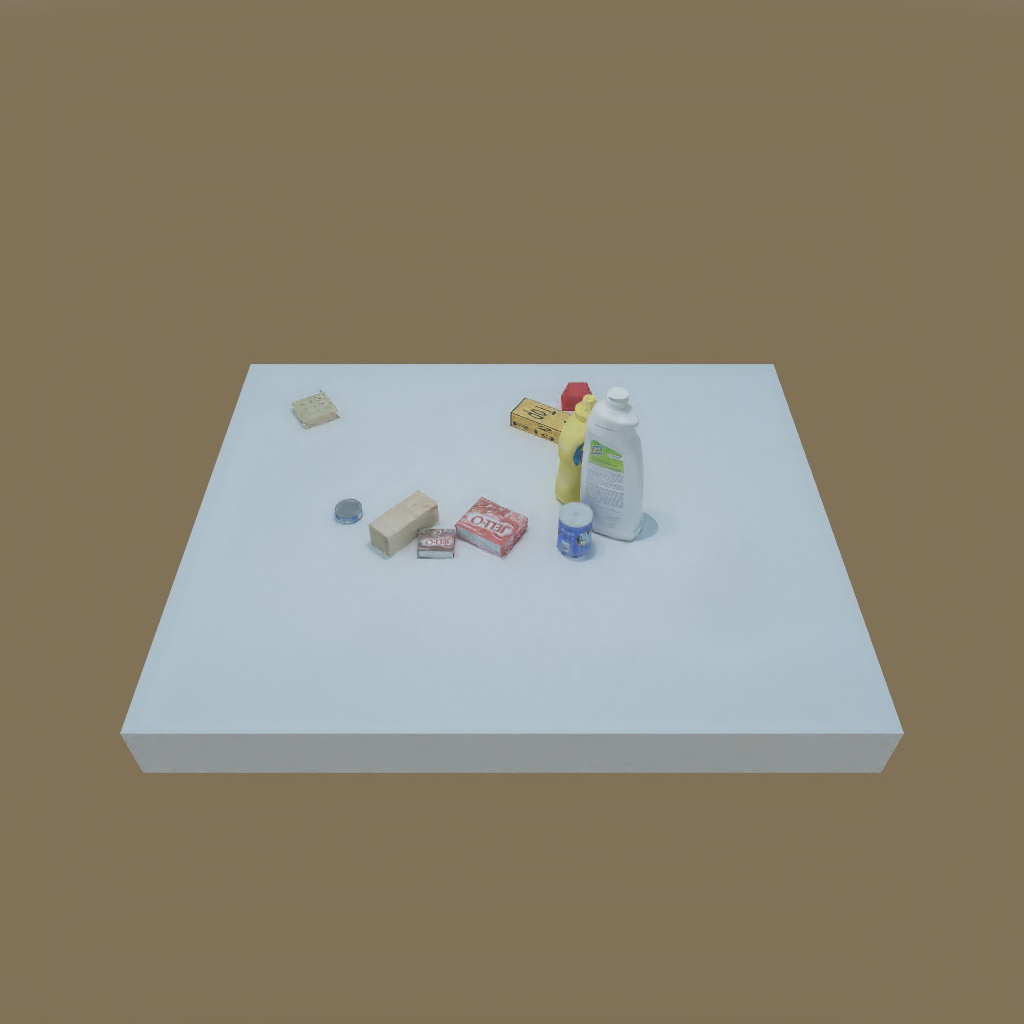gelatin_box: (453, 498, 527, 555)
jenga: (512, 396, 572, 442)
master_chef_can: (556, 503, 599, 563)
mustard_bottle: (555, 398, 599, 498)
nine_hole_peg_test: (292, 389, 341, 429)
pudding_box: (417, 527, 458, 559)
wood_block: (372, 491, 438, 552)
